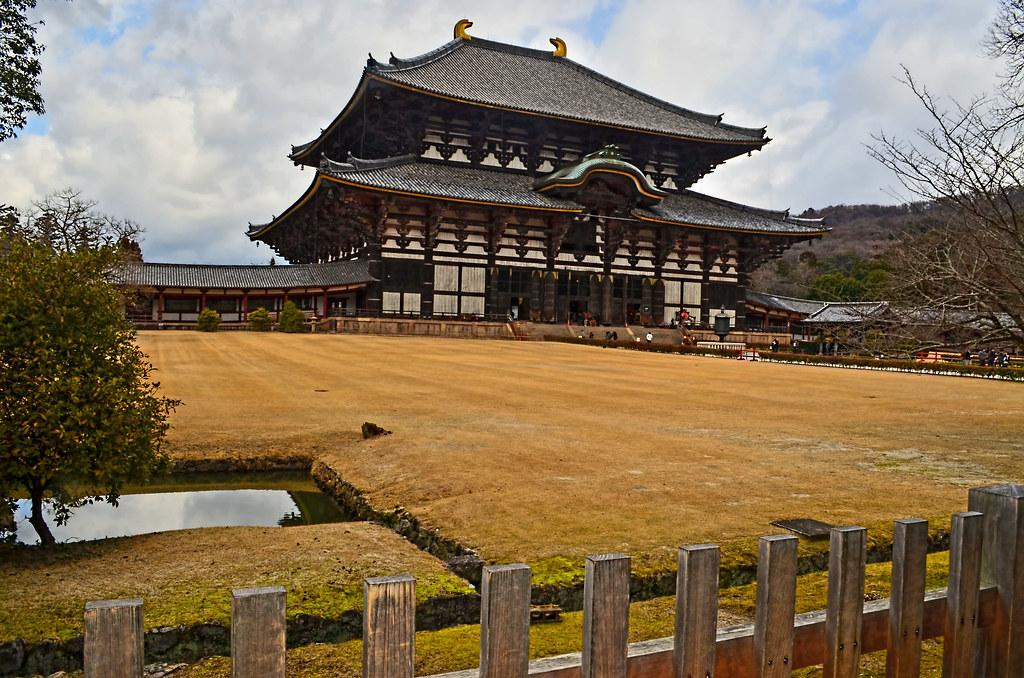temple: (244, 17, 834, 333)
